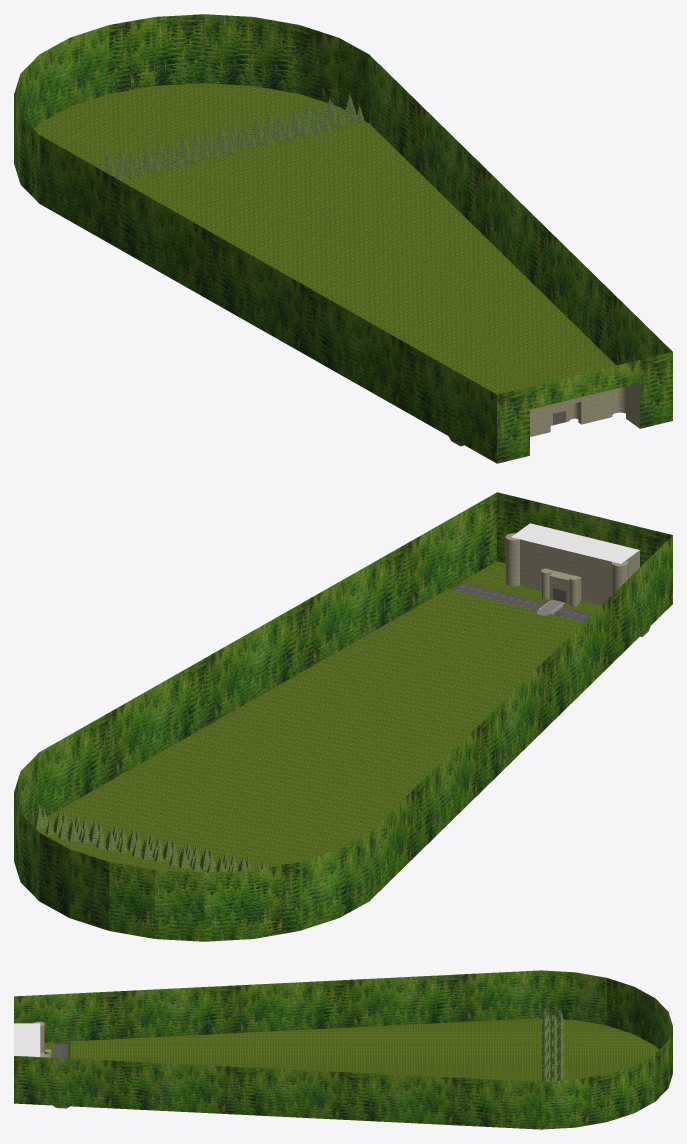
The model's file is okolje.obj.
The picture shows the model from 3 angles, top to bottom: view 1: azimuth 30°, elevation 25°; view 2: azimuth 150°, elevation 25°; view 3: azimuth 270°, elevation 25°; orthographic projection. The views are drawn at different scales.
Visible parts, largest first — view 1: okolje_Main-Material3, okolje_Main-Material2, okolje_c_pine-Material12, okolje_Main-Stone_Coursed_Rough; view 2: okolje_Main-Material3, okolje_Main-Material2, okolje_Main-Stone_Coursed_Rough, okolje_c_pine-Material12, okolje_Main-Default_Material, okolje_Main-Material9, okolje_Main-Groundcover_RiverRock_4inch; view 3: okolje_Main-Material3, okolje_Main-Material2, okolje_c_pine-Material12, okolje_Main-Default_Material.
Boxes of the visible parts, x1,y1,x2,y2 form: okolje_Main-Material3: [14, 14, 672, 463]; okolje_Main-Material2: [34, 83, 615, 445]; okolje_c_pine-Material12: [83, 93, 363, 180]; okolje_Main-Stone_Coursed_Rough: [530, 383, 639, 436]; okolje_Main-Material3: [14, 492, 672, 941]; okolje_Main-Material2: [34, 561, 650, 872]; okolje_Main-Stone_Coursed_Rough: [505, 533, 639, 606]; okolje_c_pine-Material12: [33, 805, 281, 872]; okolje_Main-Default_Material: [511, 523, 639, 563]; okolje_Main-Material9: [451, 583, 591, 621]; okolje_Main-Groundcover_RiverRock_4inch: [452, 583, 649, 637]; okolje_Main-Material3: [14, 970, 672, 1129]; okolje_Main-Material2: [44, 1018, 658, 1107]; okolje_c_pine-Material12: [541, 1009, 564, 1081]; okolje_Main-Default_Material: [14, 1023, 40, 1056].
Size of the model in its own units: 150 by 31.5 by 375.
